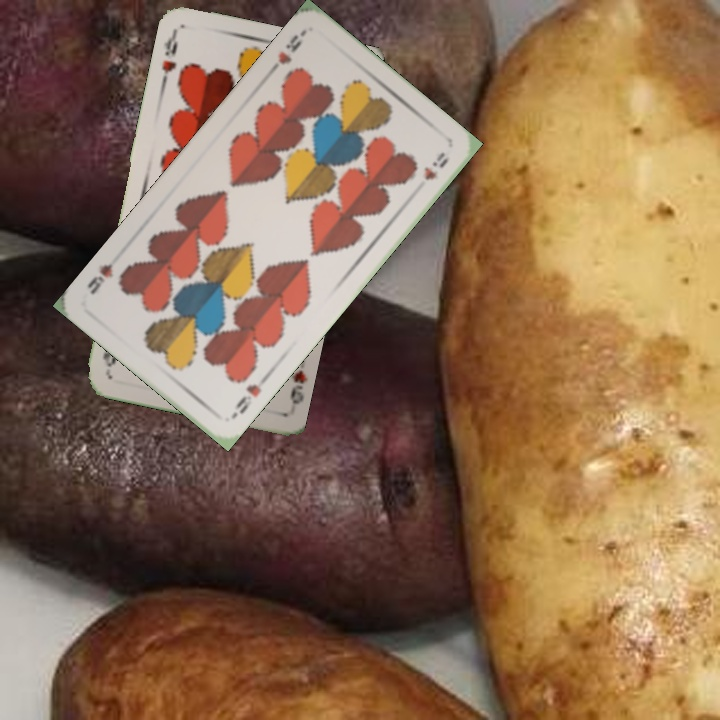H9: (265, 30, 305, 77), (231, 374, 270, 417), (158, 29, 181, 87), (286, 366, 308, 407)
